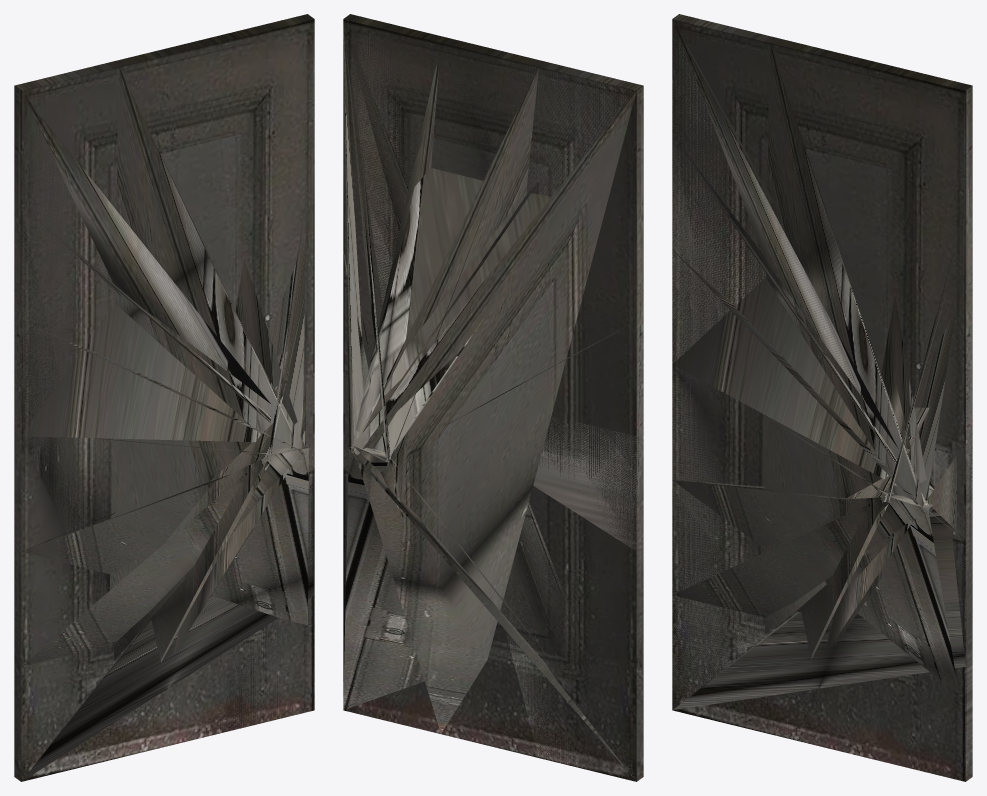
Rendered from door01_left.glb.
The picture shows the model from 3 angles, left to right: view 1: azimuth 30°, elevation 25°; view 2: azimuth 150°, elevation 25°; view 3: azimuth 330°, elevation 25°; orthographic projection.
Parts seen in each view (by area): view 1: 0_door01a; view 2: 0_door01a; view 3: 0_door01a.
Part boxes in pixels (box(x1,y1,x2,y2)): 0_door01a: box(14, 14, 314, 781); 0_door01a: box(343, 14, 643, 781); 0_door01a: box(672, 14, 972, 781).
Bounding box in the file's own units: 1.22 × 2.74 × 0.2938.
Materials: 1 (1 with a texture image).
